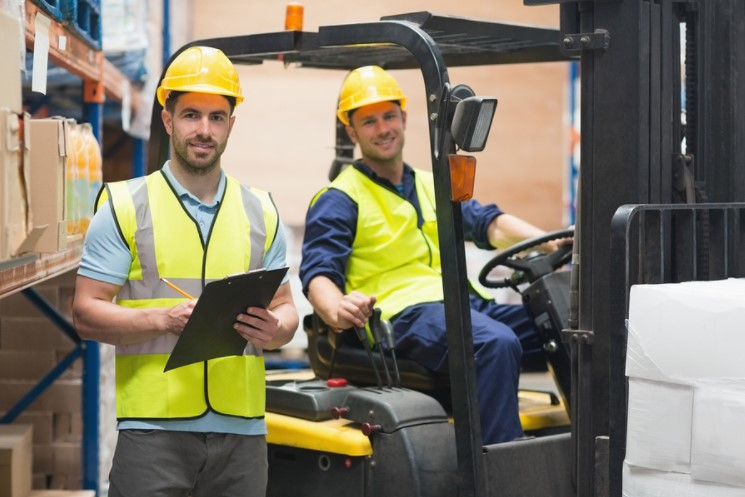worker: (94, 45, 278, 418), (312, 66, 437, 311)
